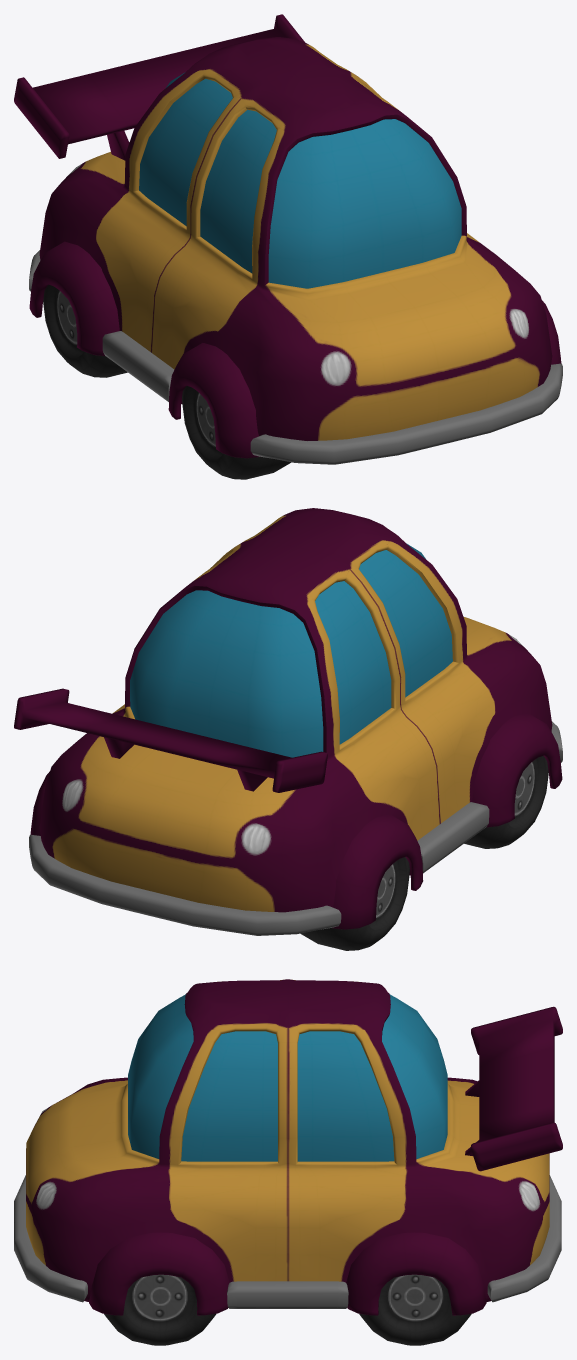
The model's file is Car purple.fbx.
The picture shows the model from 3 angles, top to bottom: view 1: azimuth 30°, elevation 25°; view 2: azimuth 150°, elevation 25°; view 3: azimuth 270°, elevation 25°; orthographic projection. The views are drawn at different scales.
Parts seen in each view (by area): view 1: Car frame, Spoiler, Front bumber, Front left tire cover.002, Front left tire cover.003, Front left tire.002, Front left tire.003, Right bumper.001; view 2: Car frame, Spoiler, Back bumper, Front left tire cover.003, Front left tire cover.002, Front left tire.003, Front left tire.002, Right bumper.001; view 3: Car frame, Spoiler, Front left tire cover.001, Front left tire cover, Front left tire.001, Front left tire, Right bumper, Back bumper, Front bumber.
Boxes of the visible parts, x1,y1,x2,y2 form: Car frame: (39,37,552,440); Spoiler: (14,14,305,160); Front bumber: (250,363,562,464); Front left tire cover.002: (168,343,260,458); Front left tire cover.003: (29,241,119,355); Front left tire.002: (182,386,291,479); Front left tire.003: (43,285,127,377); Right bumper.001: (102,331,174,401); Car frame: (39,508,552,912); Spoiler: (14,688,327,792); Back bumper: (29,834,341,935); Front left tire cover.003: (332,814,423,929); Front left tire cover.002: (472,713,562,827); Front left tire.003: (300,857,409,950); Front left tire.002: (464,756,548,848); Right bumper.001: (417,802,489,873); Car frame: (26,979,549,1301); Spoiler: (465,1006,562,1171); Front left tire cover.001: (346,1232,486,1315); Front left tire cover: (89,1232,229,1315); Front left tire.001: (359,1274,471,1345); Front left tire: (104,1274,216,1345); Right bumper: (227,1281,348,1308); Back bumper: (487,1175,561,1302); Front bumber: (14,1175,87,1302).
Size of the model in its own units: 266 by 235 by 406.
